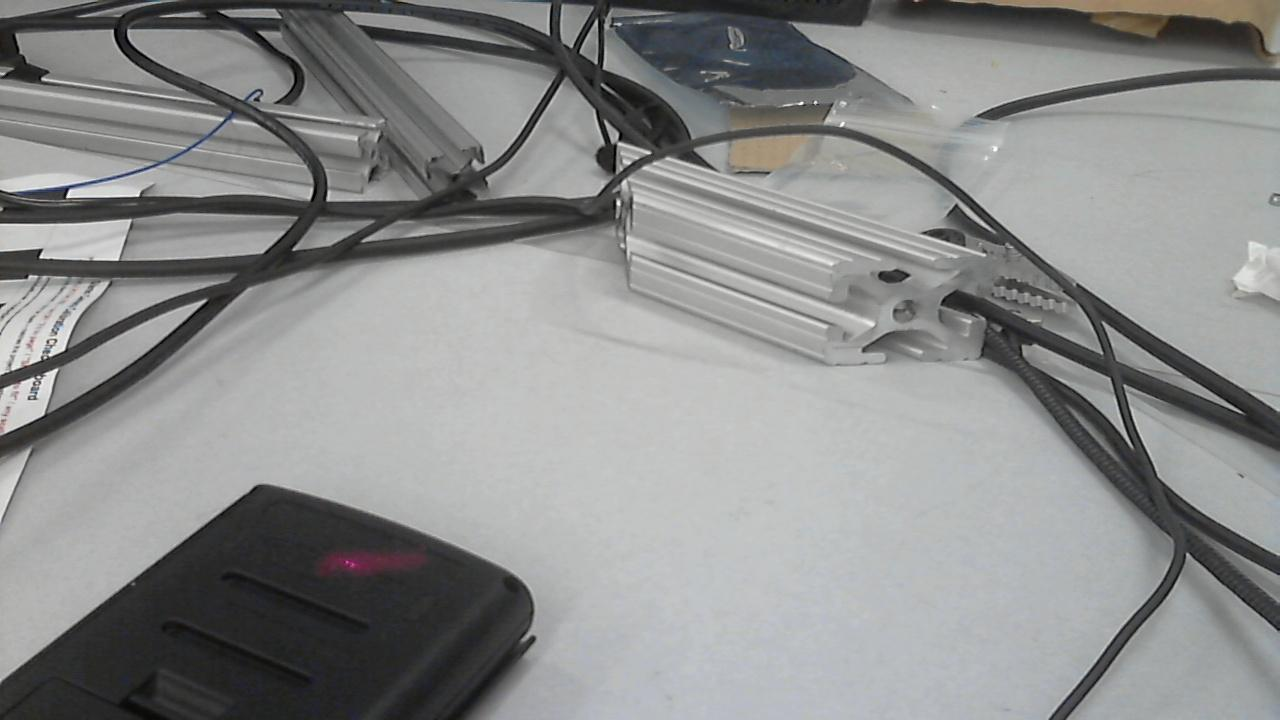Object insulated water bottle - Material metal - Color navy blue - Pdfname Uop6e: (294, 532, 454, 590)
